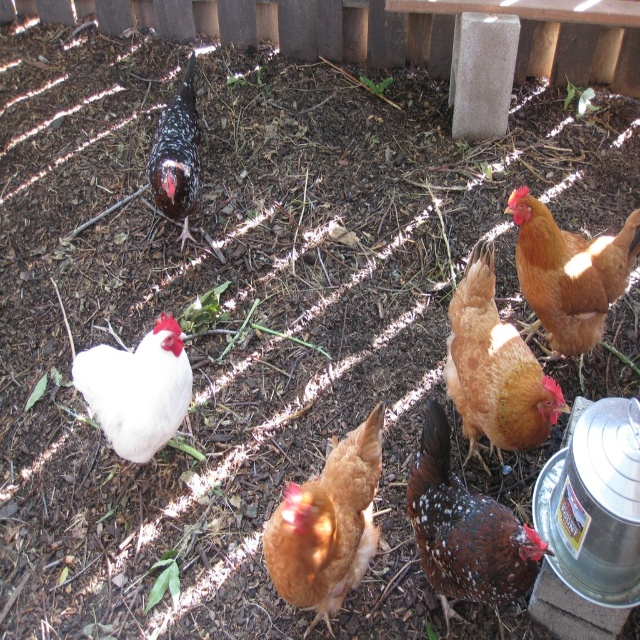Chicken: (406, 396, 555, 639), (262, 398, 384, 639), (452, 275, 572, 484), (503, 185, 640, 362), (71, 308, 194, 463), (147, 52, 202, 251)
